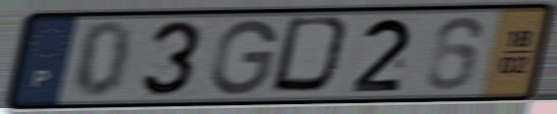0: (73, 19, 137, 101)
2: (350, 16, 413, 95)
3: (137, 18, 208, 100)
6: (422, 14, 486, 93)
D: (266, 14, 358, 98)
G: (206, 17, 281, 97)
